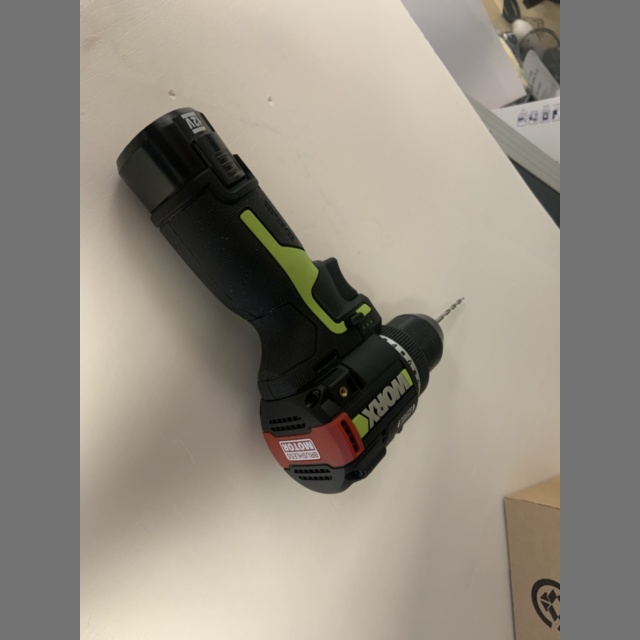drill: (118, 109, 464, 493)
